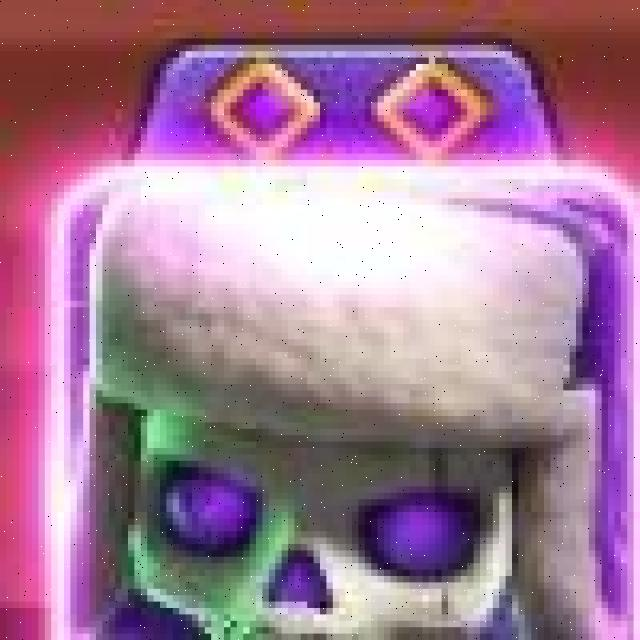Evolved_Skeletons: (50, 162, 640, 640)
